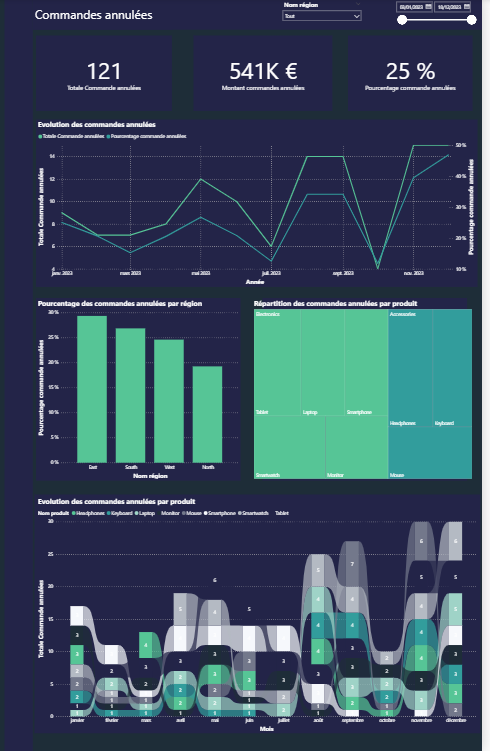

The dashboard page shown, as its layout file describes it:
{"tool":"powerbi","page":{"name":"Commandes annulées","canvas":[1280,2000],"ordinal":1},"visuals":[{"type":"shape","box":[10.9,0,75.1,2000.6],"z":0},{"type":"shape","box":[85.6,0,1193.9,84],"z":1000},{"type":"shape","box":[96.1,98.1,360.4,200.2],"z":2000},{"type":"shape","box":[512.5,98.1,368.4,200.2],"z":3000},{"type":"shape","box":[925,100.1,330.3,200.2],"z":4000},{"type":"shape","box":[97,322.2,1171.6,444.2],"z":5000},{"type":"shape","box":[97,796.2,542.8,484.9],"z":6000},{"type":"shape","box":[697.6,796.2,542.8,484.9],"z":7000},{"type":"shape","box":[92.3,1318.6,1182.5,633.5],"z":8000},{"type":"textbox","box":[85.6,15.9,369.4,68.2],"z":9000},{"type":"lineChart","title":"Evolution des commandes annulées","fields":{"Category":["ventes.Data commande.Variation.Hiérarchie de dates.Année","ventes.Data commande.Variation.Hiérarchie de dates.Trimestre","ventes.Data commande.Variation.Hiérarchie de dates.Mois","ventes.Data commande.Variation.Hiérarchie de dates.Jour"],"Y":["Mesures.Totale Commande annulées"],"Y2":["Mesures.Pourcentage commande annulées"]},"box":[97,322.2,1171.6,444.2],"z":10000},{"type":"columnChart","title":"Pourcentage des commandes annulées par région","fields":{"Category":["Région.Nom région"],"Y":["Mesures.Pourcentage commande annulées"]},"box":[97,796.2,542.8,484.9],"z":11000},{"type":"treemap","title":"Répartition des commandes annulées par produit","fields":{"Group":["Produit.Catégorie produit"],"Values":["Mesures.Totale ventes"],"Details":["Produit.Nom produit"]},"box":[666.7,796.8,588.6,484.5],"z":12000},{"type":"slicer","fields":{"Values":["Région.Nom région"]},"box":[740.4,0,228.3,68.2],"z":13000},{"type":"slicer","fields":{"Values":["ventes.Data commande"]},"box":[1039.1,0,240.3,84.1],"z":14000},{"type":"card","fields":{"Values":["Mesures.Totale Commande annulées"]},"box":[96.1,98.1,360.4,200.2],"z":15000},{"type":"card","fields":{"Values":["Mesures.Montant commandes annulées"]},"box":[512.5,98.1,368.4,200.2],"z":16000},{"type":"card","fields":{"Values":["Mesures.Pourcentage commande annulées"]},"box":[925,100.1,330.3,200.2],"z":17000},{"type":"ribbonChart","title":"Evolution des commandes annulées par produit","fields":{"Category":["ventes.Data commande.Variation.Hiérarchie de dates.Année","ventes.Data commande.Variation.Hiérarchie de dates.Trimestre","ventes.Data commande.Variation.Hiérarchie de dates.Mois","ventes.Data commande.Variation.Hiérarchie de dates.Jour"],"Y":["Mesures.Totale Commande annulées"],"Series":["Produit.Nom produit"]},"box":[94.1,1319.4,1173.2,632.7],"z":18000}]}

Visuals, with their boxes in screenshot pixels (x1, y1, x2, y2), scaled from the page's 1280x2000 canvas onto the 490x751 screenshot:
shape: 4 0 33 750
shape: 33 0 489 32
shape: 37 37 175 112
shape: 196 37 337 112
shape: 354 38 481 113
shape: 37 121 486 288
shape: 37 299 245 481
shape: 267 299 475 481
shape: 35 495 488 733
textbox: 33 6 174 32
"Evolution des commandes annulées" lineChart: 37 121 486 288
"Pourcentage des commandes annulées par région" columnChart: 37 299 245 481
"Répartition des commandes annulées par produit" treemap: 255 299 481 481
slicer - Région.Nom région: 283 0 371 26
slicer - ventes.Data commande: 398 0 489 32
card - Mesures.Totale Commande annulées: 37 37 175 112
card - Mesures.Montant commandes annulées: 196 37 337 112
card - Mesures.Pourcentage commande annulées: 354 38 481 113
"Evolution des commandes annulées par produit" ribbonChart: 36 495 485 733
